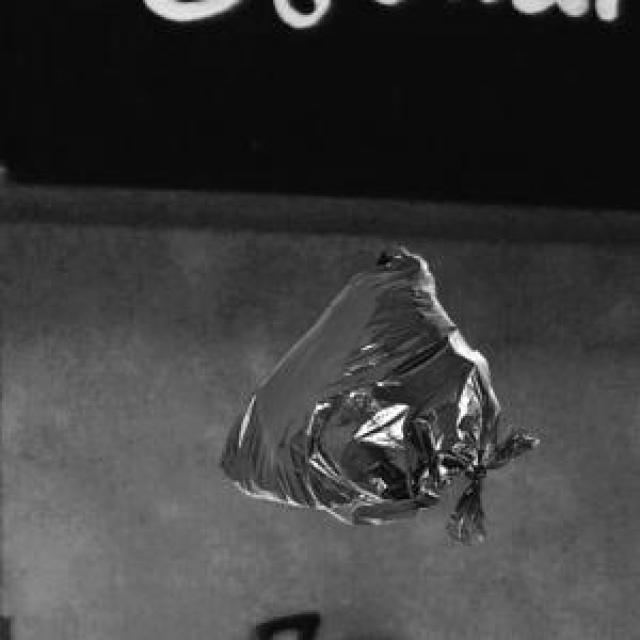miscellaneous trash: (216, 241, 536, 542)
